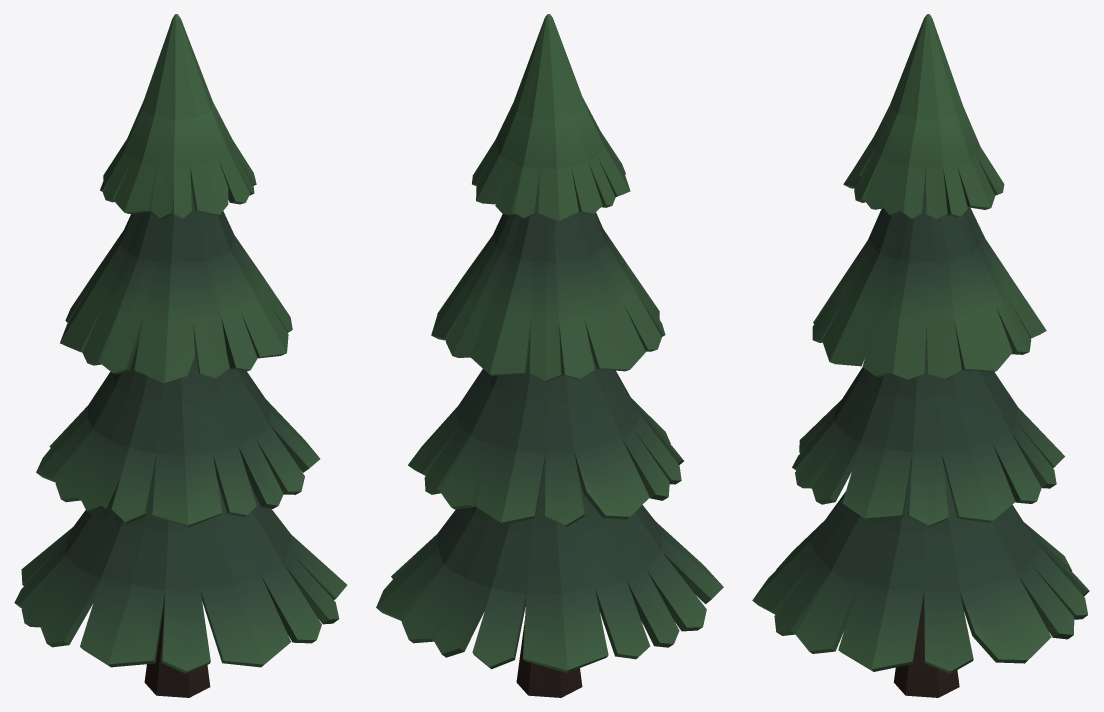
The model's file is mesh_tree_03.glb.
3 renders of one model, left to right at view 1: azimuth 30°, elevation 25°; view 2: azimuth 150°, elevation 25°; view 3: azimuth 270°, elevation 25°, orthographic.
Visible parts, largest first — view 1: mesh_tree_03; view 2: mesh_tree_03; view 3: mesh_tree_03.
Boxes of the visible parts, x1,y1,x2,y2 form: mesh_tree_03: (14,14,347,697); mesh_tree_03: (376,14,723,697); mesh_tree_03: (752,14,1089,697).
Bounding box in the file's own units: 1.95 × 4.39 × 2.
